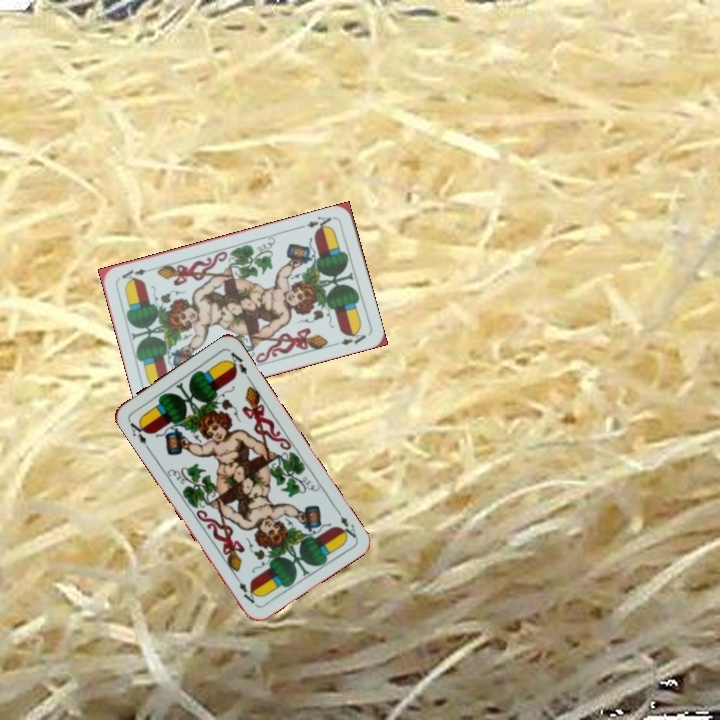EA: (331, 504, 359, 541), (126, 416, 151, 447), (303, 212, 337, 234)
